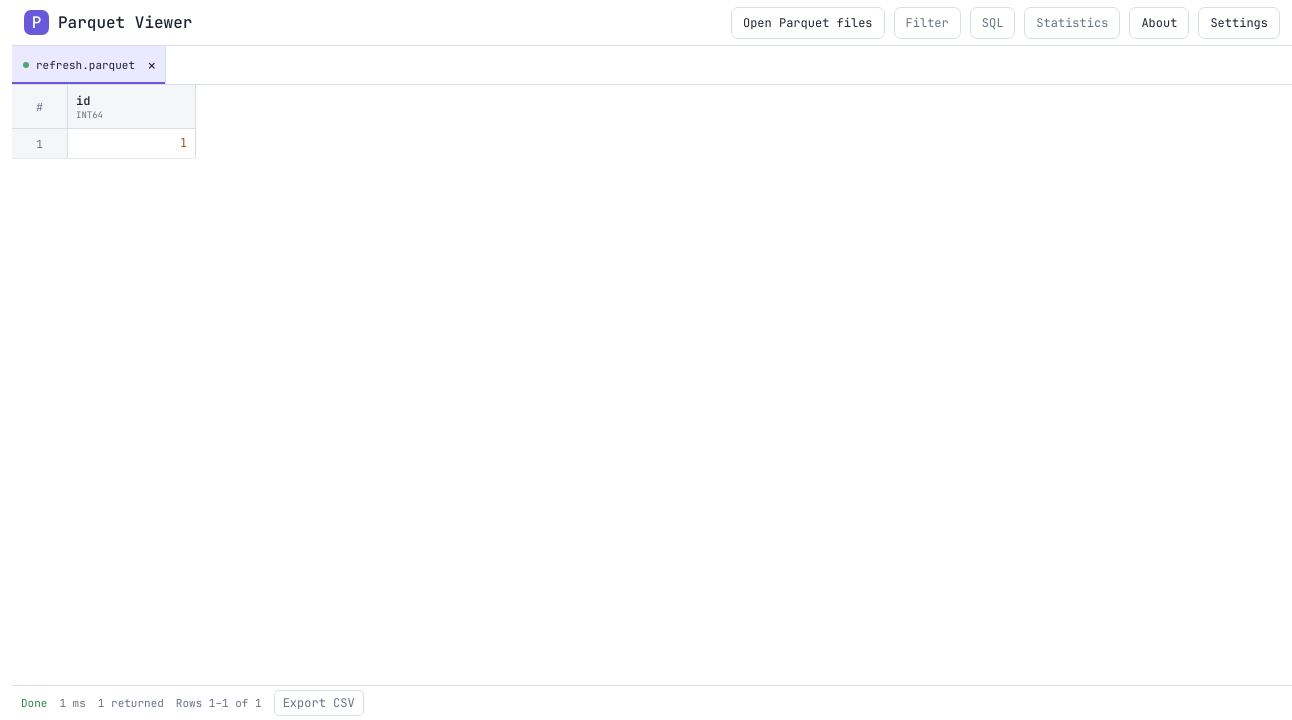
Scenario: replays the displayed query when Refresh is selected from the data context menu
Step 1. Right-click the cell named "id, row 1: 1" → [132, 144], box [68,129,196,158]
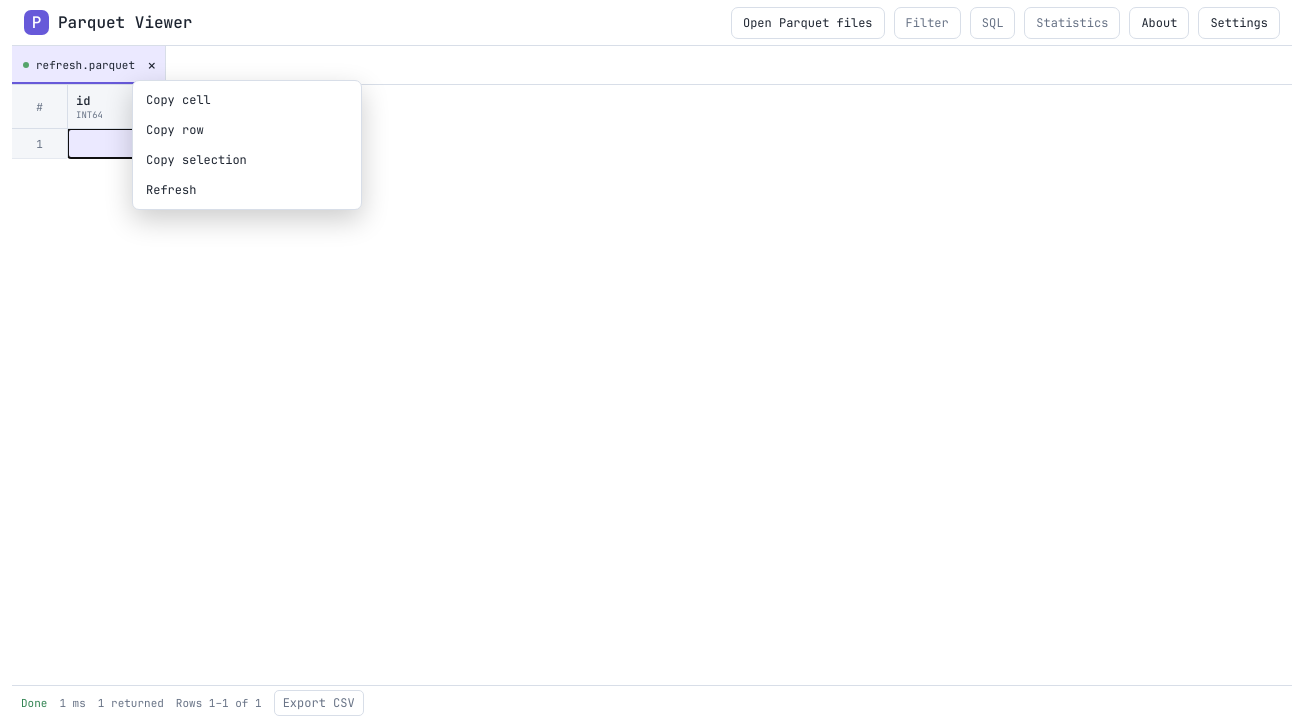
Step 2. Click the menu item "Refresh" → [247, 190], box [138,176,356,204]
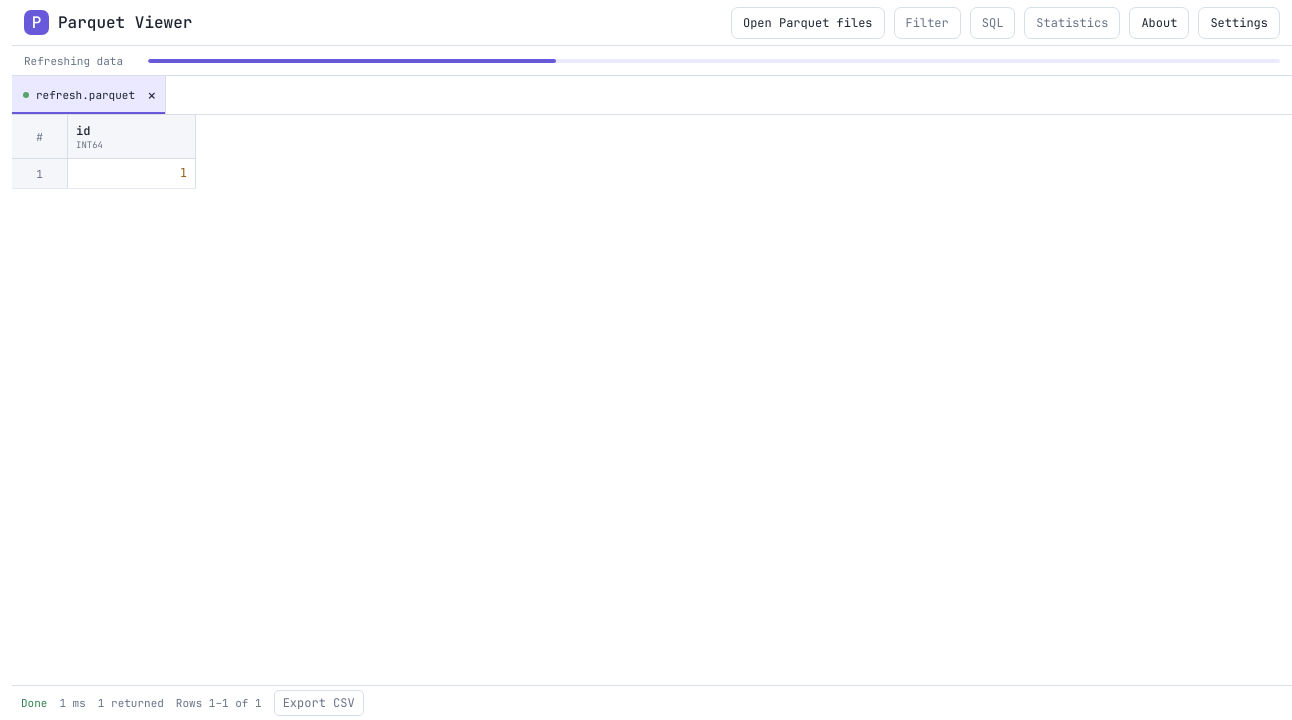
Expected: the progress indicator named "Refreshing data" is shown, [148,58,1280,62]
